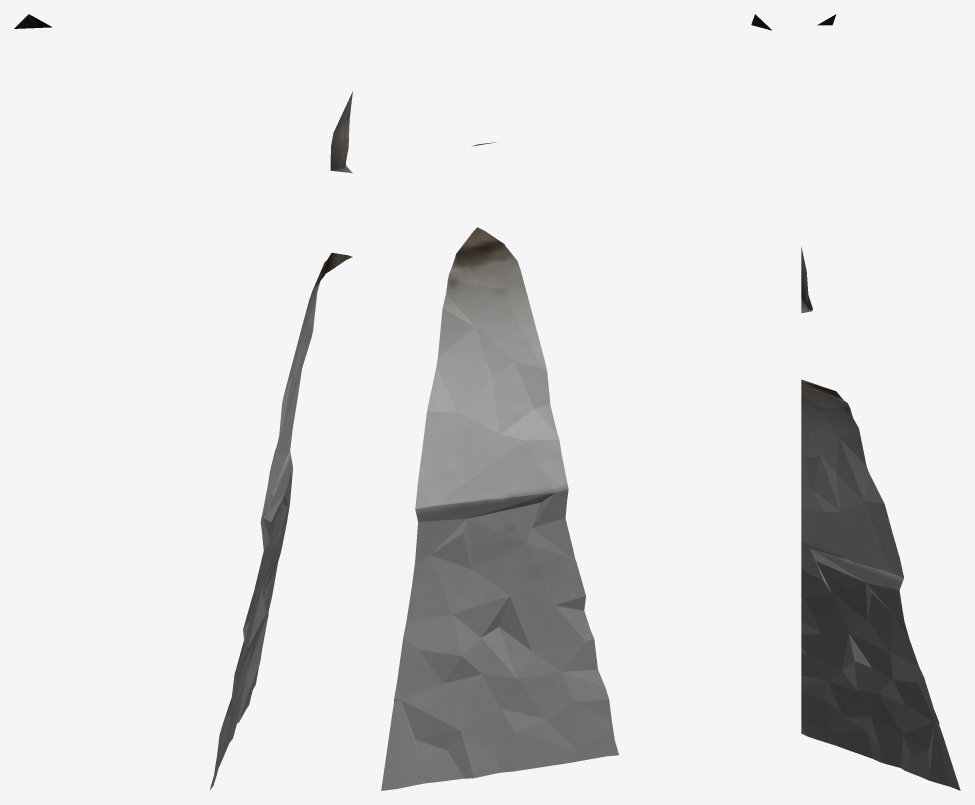
The picture shows the model from 3 angles, left to right: view 1: azimuth 30°, elevation 25°; view 2: azimuth 150°, elevation 25°; view 3: azimuth 270°, elevation 25°; orthographic projection. The views are drawn at different scales.
Bounding box in the file's own units: 0.5554 × 1.33 × 0.2932.
Materials: 1 (1 with a texture image).
